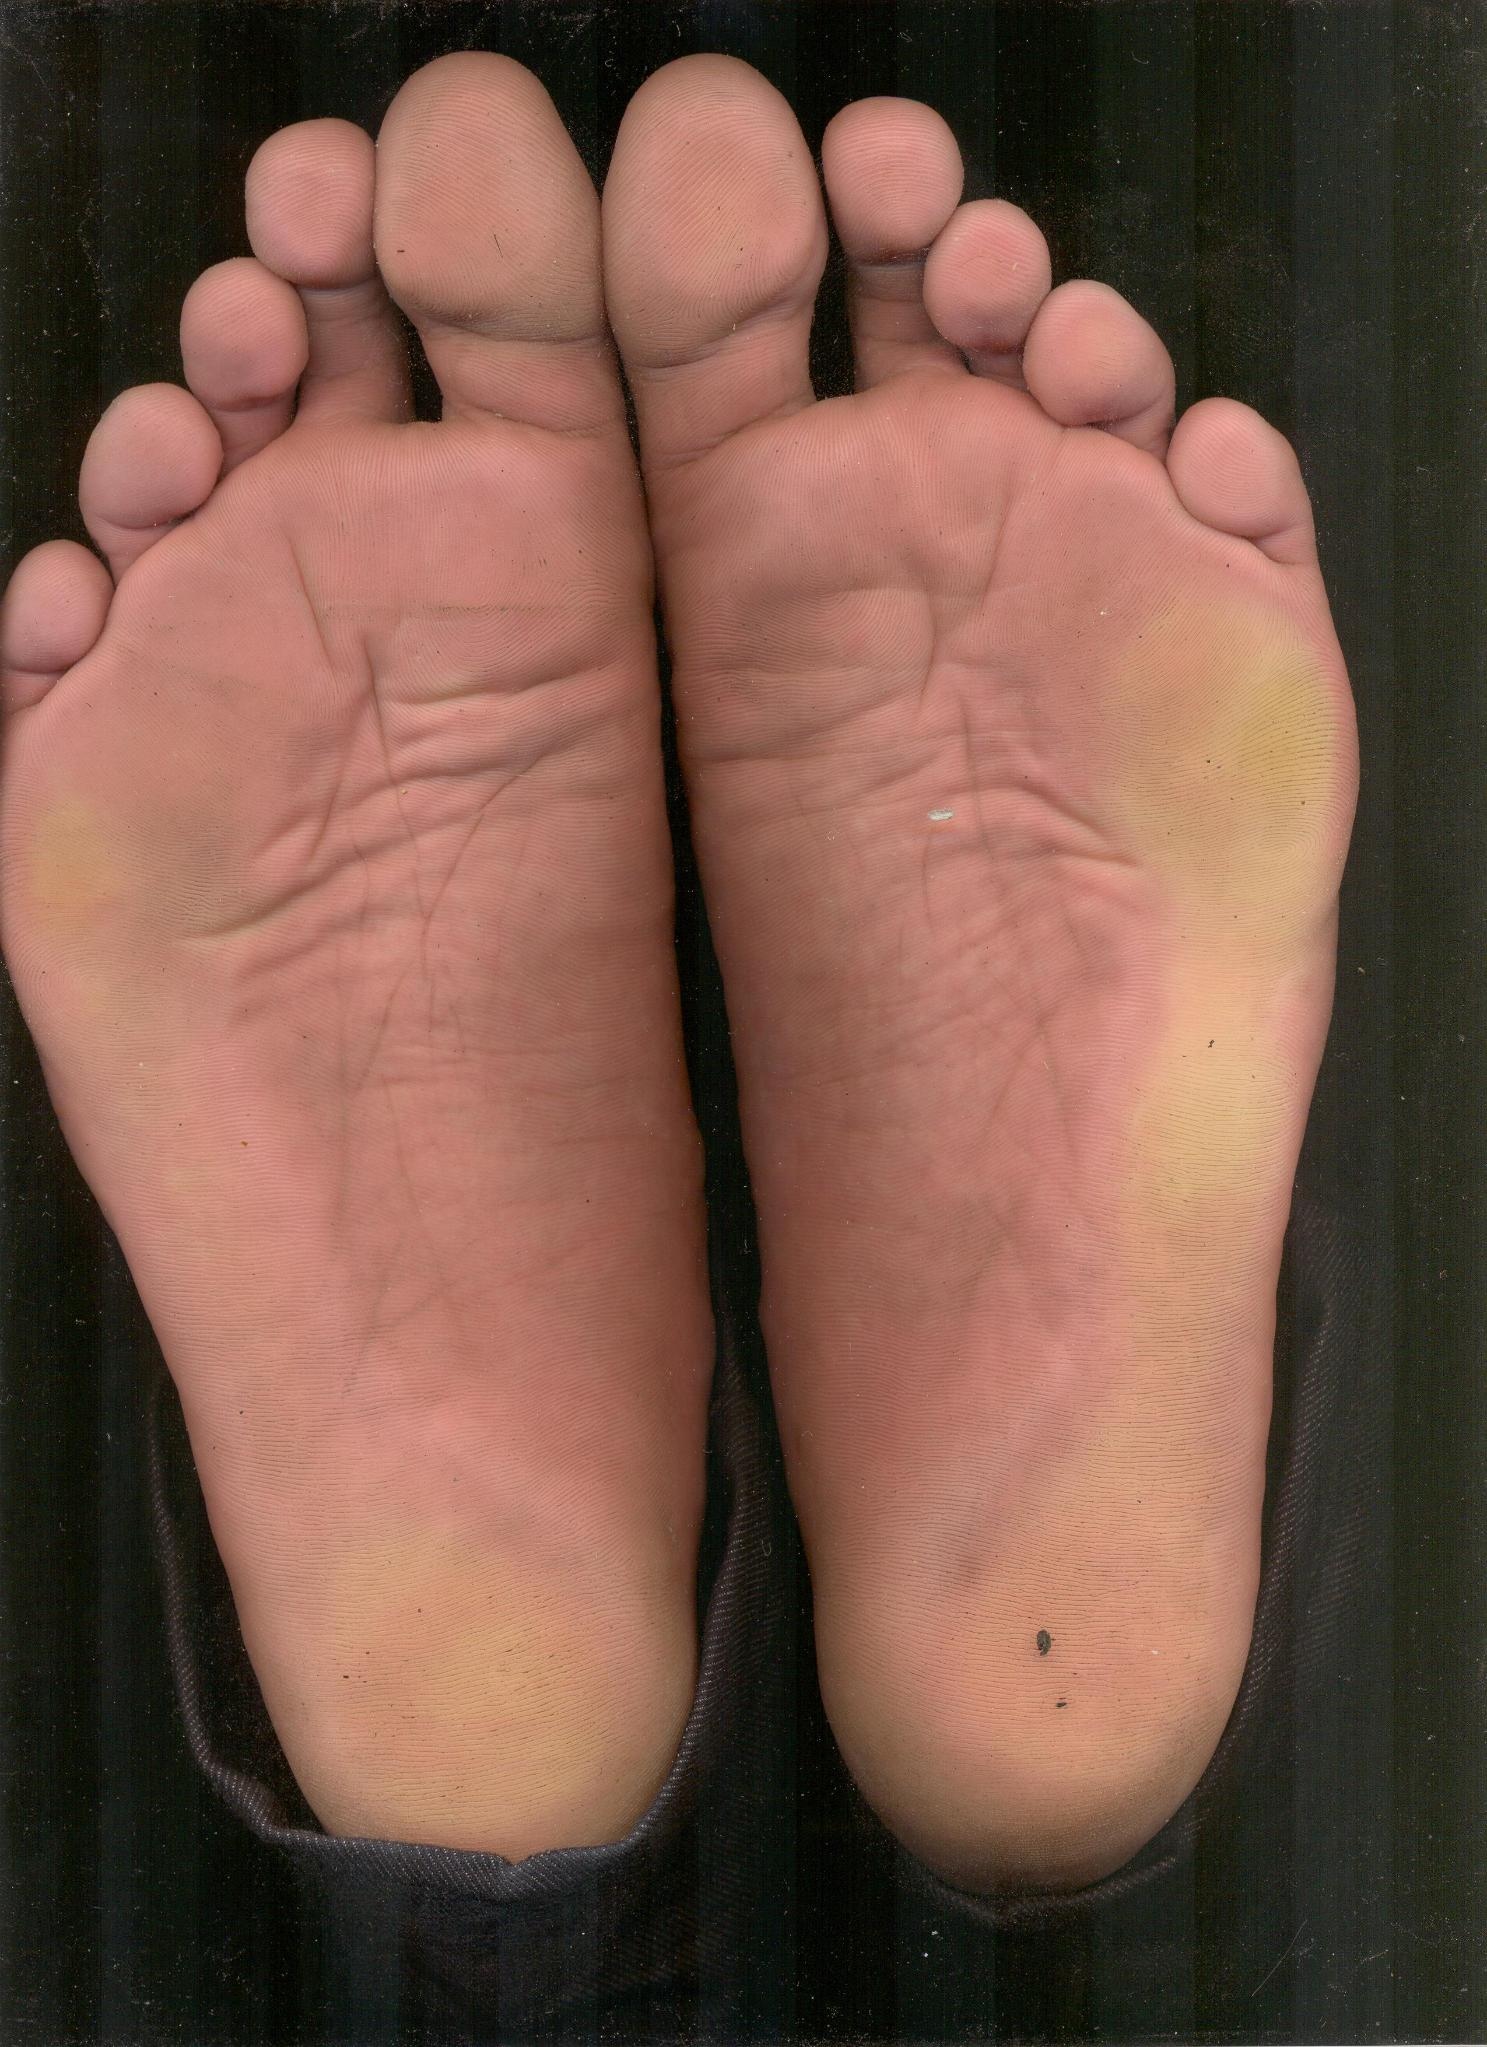Present: (613, 0, 1377, 1907), (11, 17, 740, 1872)
